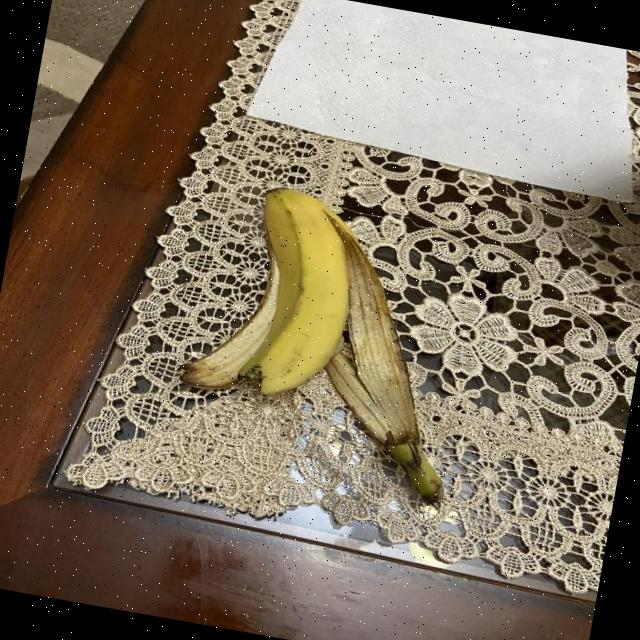banana-peel: (164, 172, 492, 503), (176, 174, 368, 412)
